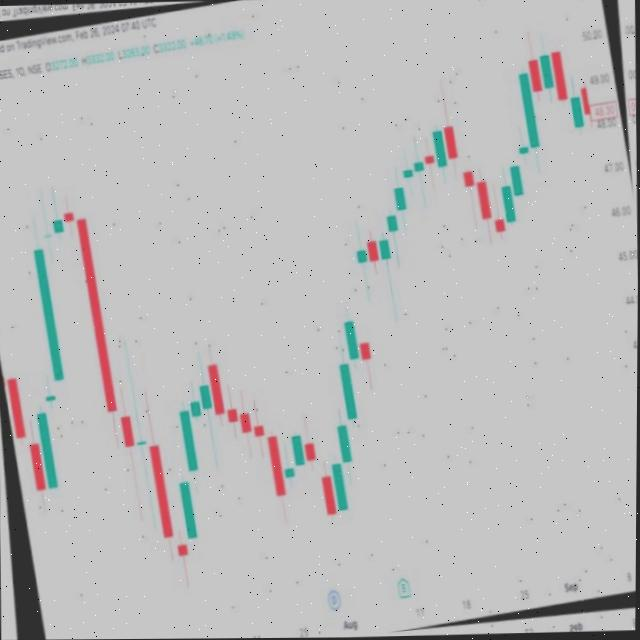Gap Down: (443, 124, 489, 209), (301, 430, 340, 524)
Gap Up: (26, 219, 75, 482), (351, 239, 385, 372)
